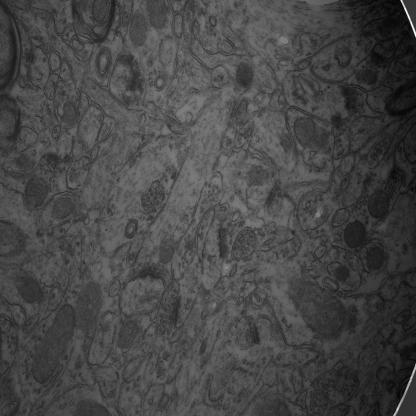mitochondria: (284, 274, 348, 336), (32, 305, 77, 383), (76, 281, 103, 329), (23, 178, 50, 210), (292, 116, 315, 145), (118, 319, 139, 349), (344, 221, 366, 249), (129, 12, 146, 48), (368, 190, 389, 218), (52, 198, 73, 220), (366, 248, 383, 270), (158, 244, 175, 265), (356, 70, 377, 84)
